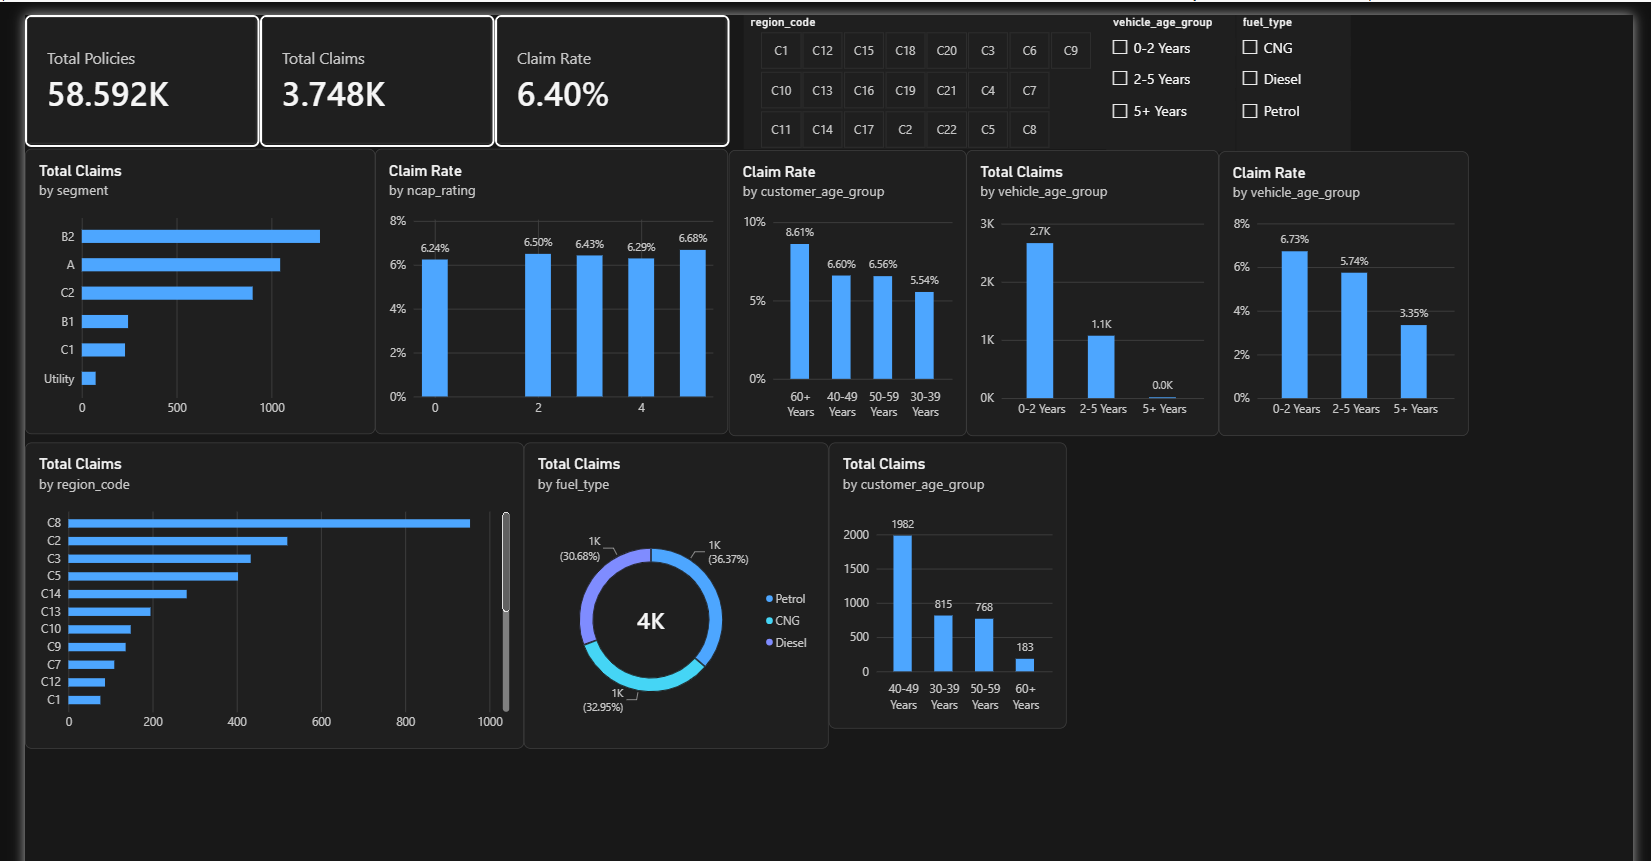

This screenshot's page, from the dashboard's own definition file:
{"tool":"powerbi","page":{"name":"Page 1","canvas":[1920,1080],"ordinal":0},"visuals":[{"type":"cardVisual","fields":{"Data":["Raw_Data.Total Claims"]},"box":[280.3,0,280.3,157.4],"z":1000},{"type":"cardVisual","fields":{"Data":["Raw_Data.Claim Rate"]},"box":[560.7,0,280.3,157.4],"z":2000},{"type":"clusteredColumnChart","fields":{"Category":["Raw_Data.customer_age_group"],"Y":["Raw_Data.Claim Rate"]},"box":[840,161.4,284.3,341.4],"z":2001},{"type":"clusteredBarChart","fields":{"Category":["Raw_Data.region_code"],"Y":["Raw_Data.Total Claims"]},"box":[0,510,595.7,365.7],"z":2002},{"type":"donutChart","title":"Total Claims","fields":{"Category":["Raw_Data.fuel_type"],"Y":["Raw_Data.Total Claims"]},"box":[595.7,510,364.3,365.7],"z":2003},{"type":"clusteredBarChart","fields":{"Category":["Raw_Data.segment"],"Y":["Raw_Data.Total Claims"]},"box":[0,160,418,341],"z":2004},{"type":"slicer","fields":{"Values":["Raw_Data.vehicle_age_group"]},"box":[1291.4,0,154.3,162.9],"z":2005},{"type":"slicer","fields":{"Values":["Raw_Data.region_code"]},"box":[858.3,0,433.3,160],"z":2006},{"type":"slicer","fields":{"Values":["Raw_Data.fuel_type"]},"box":[1445.7,0,137.1,162.9],"z":2007},{"type":"cardVisual","fields":{"Data":["Raw_Data.Total Policies"]},"box":[0,0,280.3,157.4],"z":2008},{"type":"clusteredColumnChart","fields":{"Category":["Raw_Data.vehicle_age_group"],"Y":["Raw_Data.Total Claims"]},"box":[1124.3,161.4,301.4,341.4],"z":2009},{"type":"clusteredColumnChart","fields":{"Category":["Raw_Data.vehicle_age_group"],"Y":["Raw_Data.Claim Rate"]},"box":[1425.7,162.9,298.6,340],"z":2010},{"type":"clusteredColumnChart","fields":{"Category":["Raw_Data.ncap_rating"],"Y":["Raw_Data.Claim Rate"]},"box":[418.3,160,421.3,341],"z":2011},{"type":"clusteredColumnChart","fields":{"Category":["Raw_Data.customer_age_group"],"Y":["Raw_Data.Total Claims"]},"box":[960,510,284.3,341.4],"z":2012}]}

Visuals, with their boxes on the page's 1920x1080 design canvas (x1, y1, x2, y2). These are canvas units, not pixel positions in the 1651x861 screenshot, which may show the page scaled, cropped or inside an application window:
cardVisual - Raw_Data.Total Claims: {"x1": 280, "y1": 0, "x2": 561, "y2": 157}
cardVisual - Raw_Data.Claim Rate: {"x1": 561, "y1": 0, "x2": 841, "y2": 157}
clusteredColumnChart - Raw_Data.customer_age_group x Raw_Data.Claim Rate: {"x1": 840, "y1": 161, "x2": 1124, "y2": 503}
clusteredBarChart - Raw_Data.region_code x Raw_Data.Total Claims: {"x1": 0, "y1": 510, "x2": 596, "y2": 876}
"Total Claims" donutChart: {"x1": 596, "y1": 510, "x2": 960, "y2": 876}
clusteredBarChart - Raw_Data.segment x Raw_Data.Total Claims: {"x1": 0, "y1": 160, "x2": 418, "y2": 501}
slicer - Raw_Data.vehicle_age_group: {"x1": 1291, "y1": 0, "x2": 1446, "y2": 163}
slicer - Raw_Data.region_code: {"x1": 858, "y1": 0, "x2": 1292, "y2": 160}
slicer - Raw_Data.fuel_type: {"x1": 1446, "y1": 0, "x2": 1583, "y2": 163}
cardVisual - Raw_Data.Total Policies: {"x1": 0, "y1": 0, "x2": 280, "y2": 157}
clusteredColumnChart - Raw_Data.vehicle_age_group x Raw_Data.Total Claims: {"x1": 1124, "y1": 161, "x2": 1426, "y2": 503}
clusteredColumnChart - Raw_Data.vehicle_age_group x Raw_Data.Claim Rate: {"x1": 1426, "y1": 163, "x2": 1724, "y2": 503}
clusteredColumnChart - Raw_Data.ncap_rating x Raw_Data.Claim Rate: {"x1": 418, "y1": 160, "x2": 840, "y2": 501}
clusteredColumnChart - Raw_Data.customer_age_group x Raw_Data.Total Claims: {"x1": 960, "y1": 510, "x2": 1244, "y2": 851}
